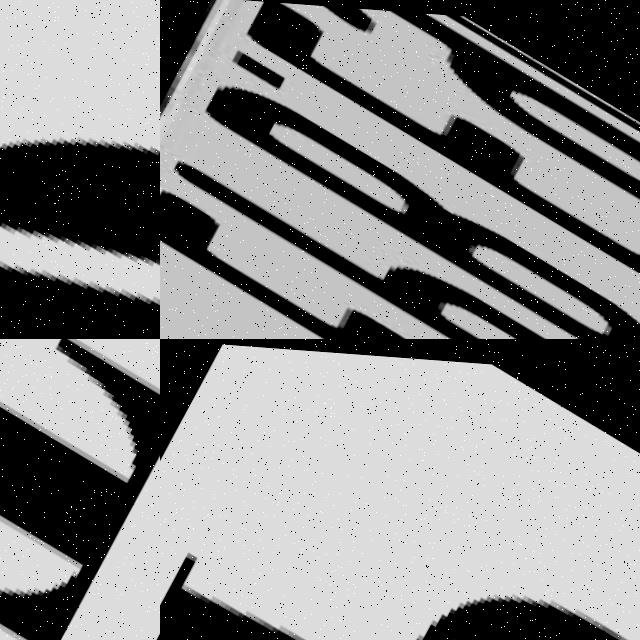0: (0, 0, 160, 339)
9: (259, 0, 640, 248)
B: (180, 44, 640, 339)
E: (233, 0, 640, 300), (160, 183, 625, 339)
P: (160, 117, 640, 339)
T: (0, 339, 160, 640)
